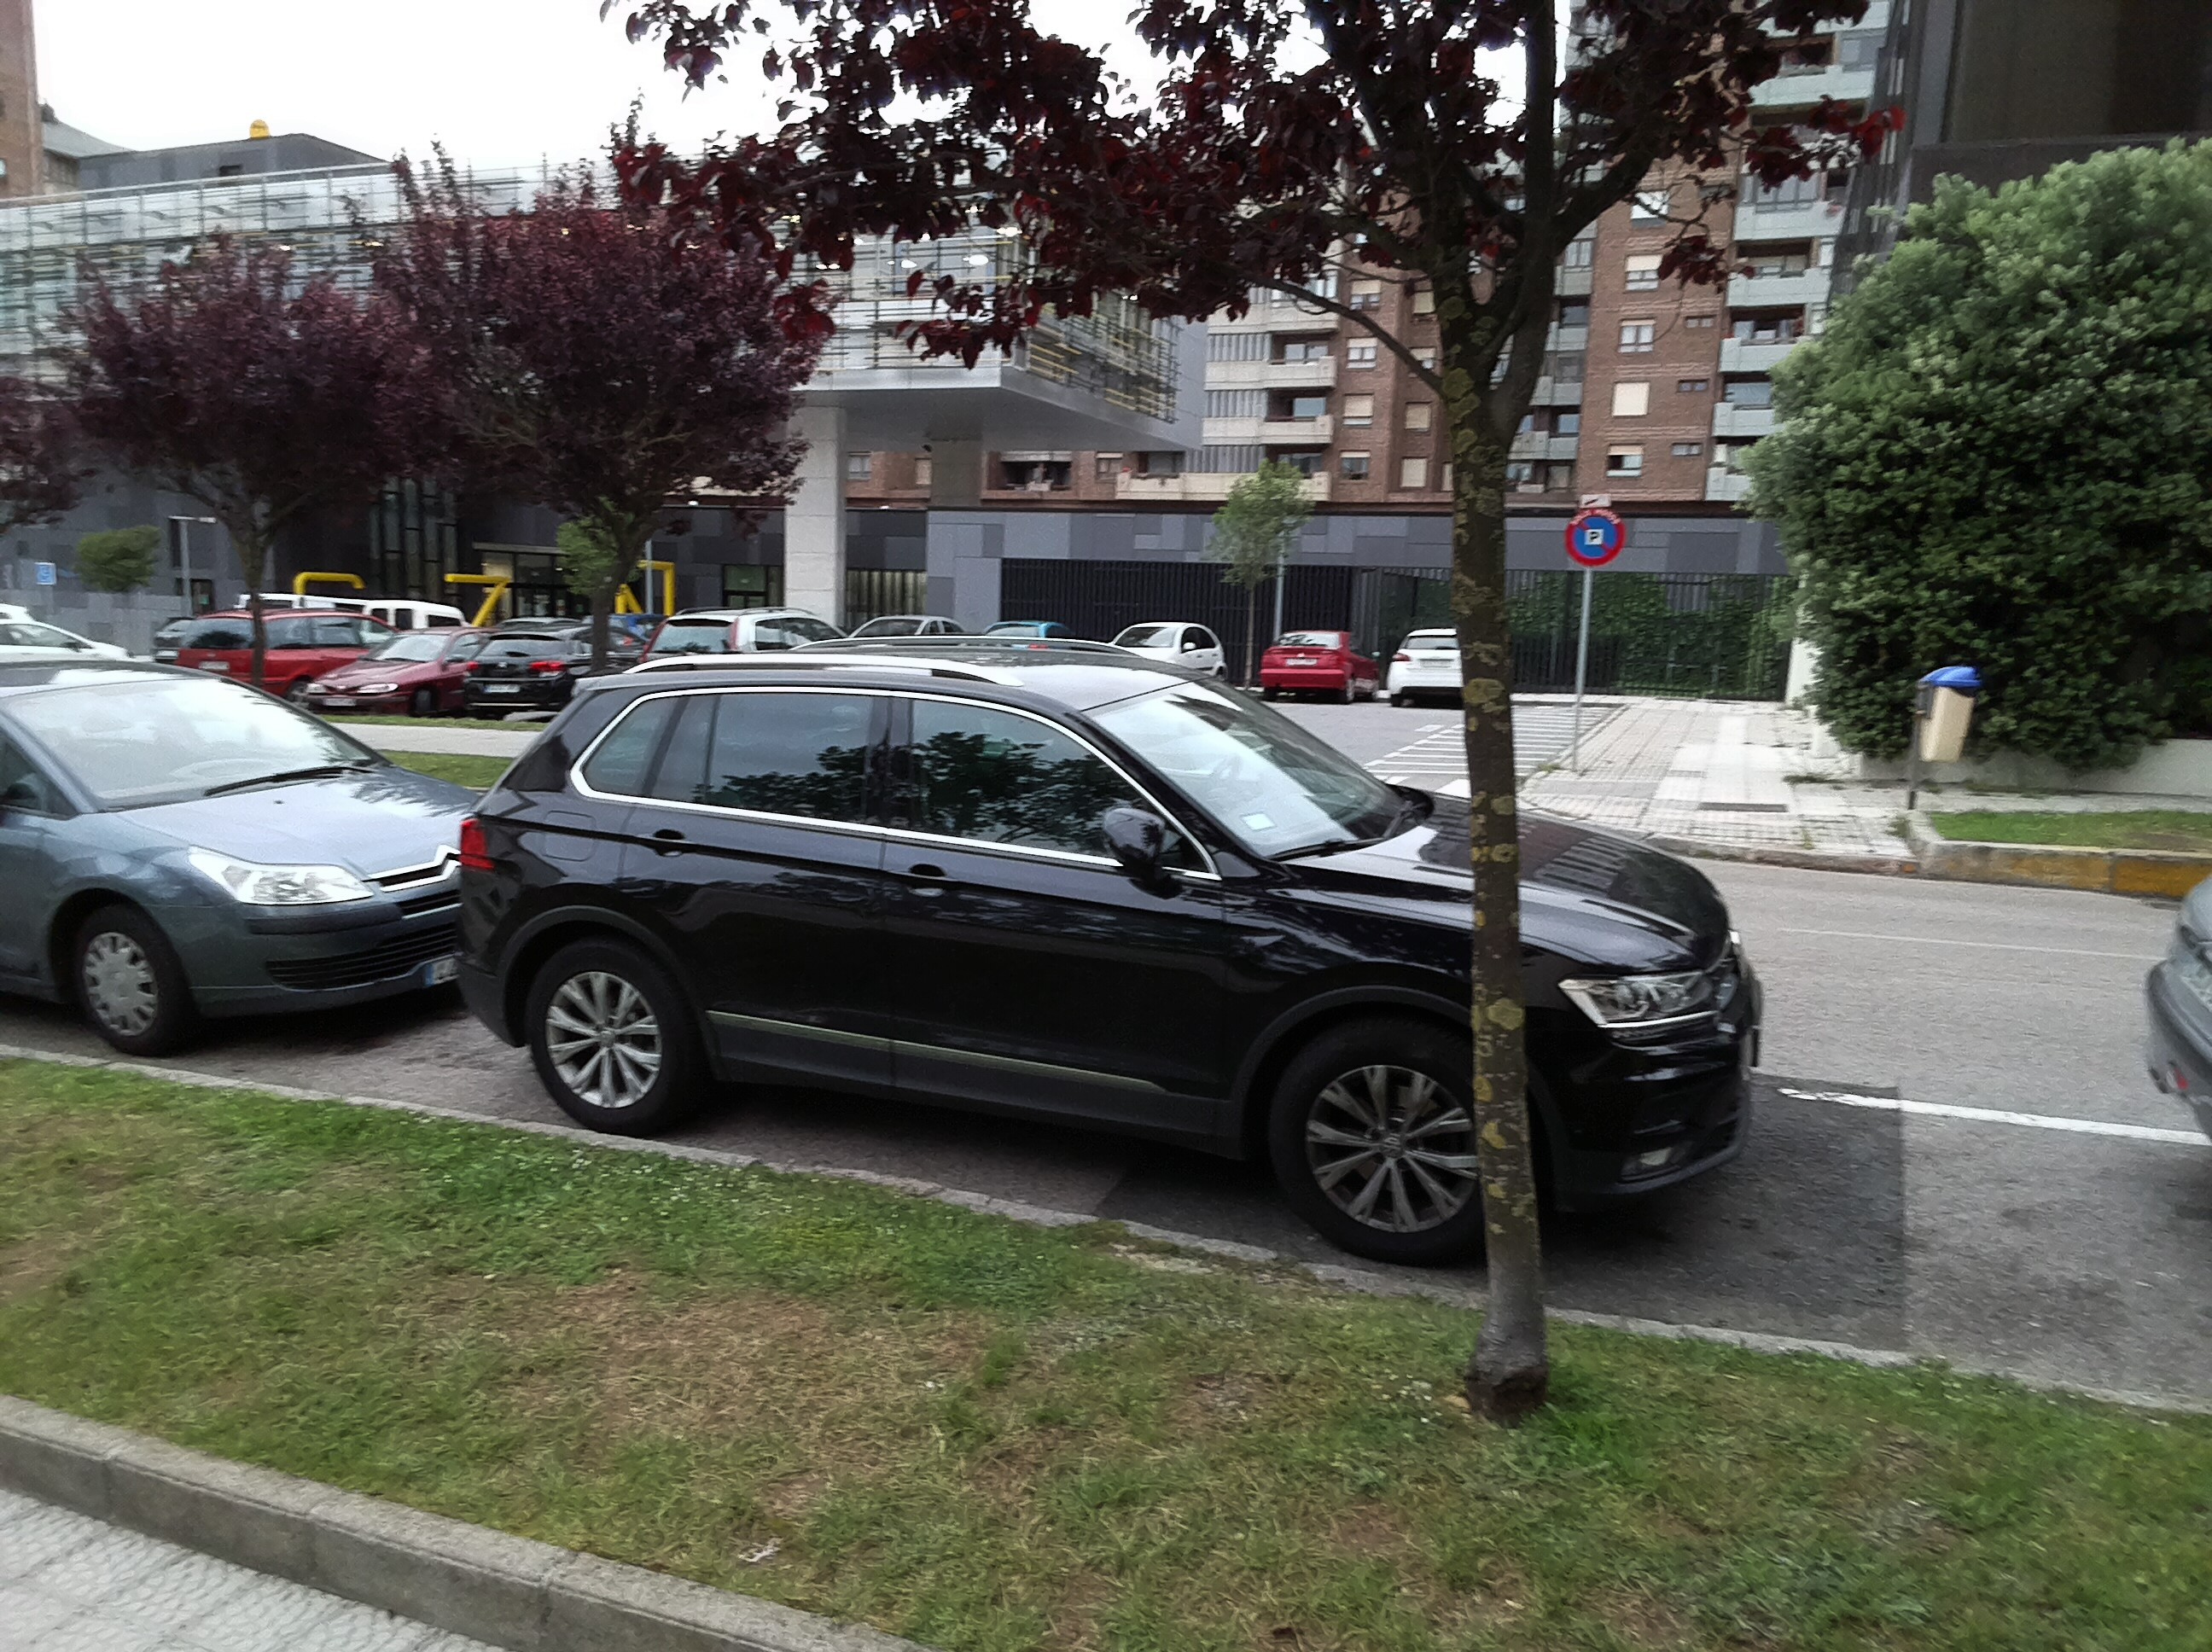Arbol: (1253, 0, 1678, 1440)
Vehiculo: (434, 632, 1830, 1262), (0, 632, 557, 1072)
